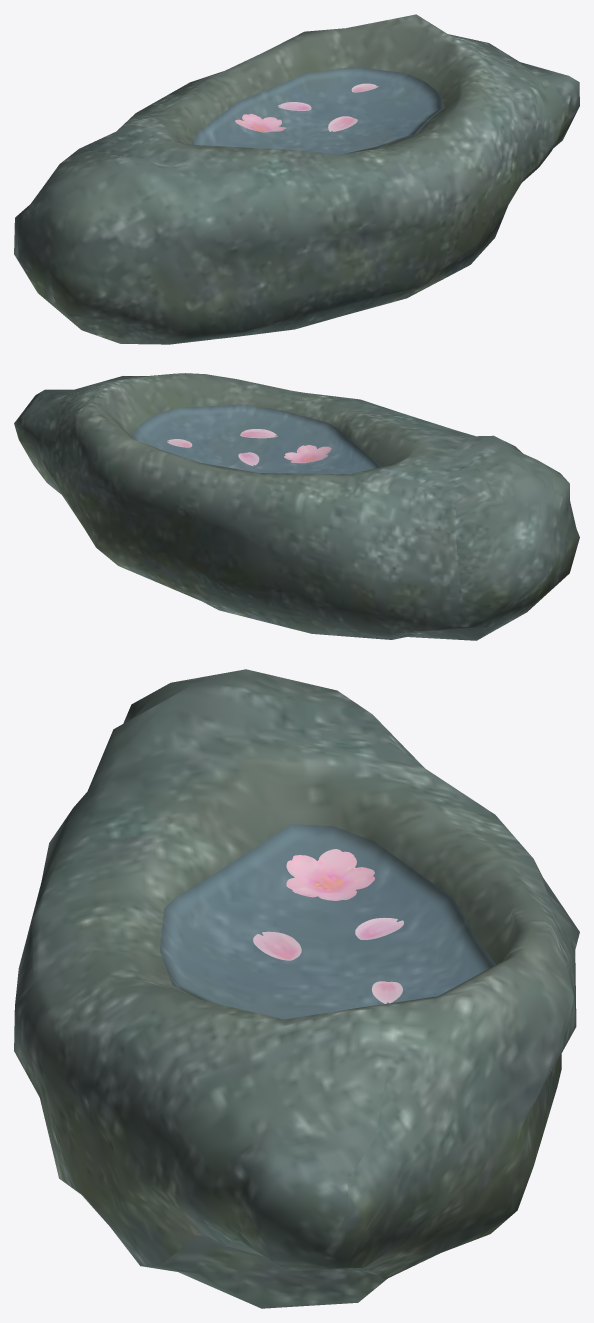
The model's file is pond-stone-sakura.glb.
The picture shows the model from 3 angles, top to bottom: view 1: azimuth 30°, elevation 25°; view 2: azimuth 150°, elevation 25°; view 3: azimuth 270°, elevation 25°; orthographic projection. The views are drawn at different scales.
Bounding box in the file's own units: 18.04 × 5.95 × 8.91.
3 materials, 2 textured.
